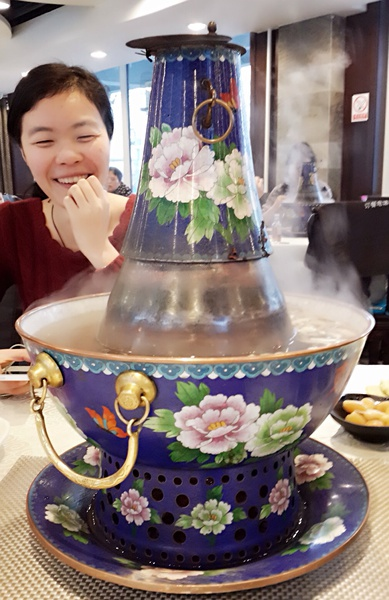face: (26, 91, 107, 205)
